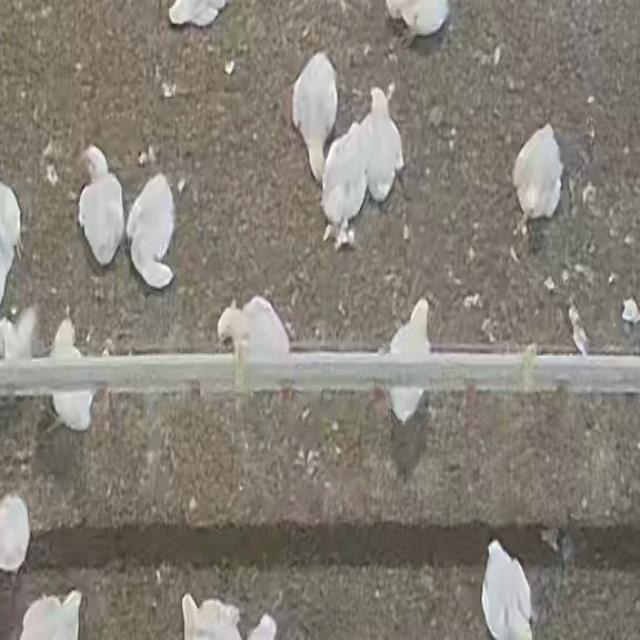chicken: (290, 49, 339, 184), (76, 144, 125, 268), (383, 297, 432, 420), (320, 122, 368, 245), (48, 318, 97, 432), (216, 295, 292, 368), (128, 174, 177, 287), (512, 125, 562, 233), (482, 539, 535, 640), (359, 84, 402, 204), (19, 591, 82, 640), (182, 594, 244, 640), (0, 494, 31, 572)
